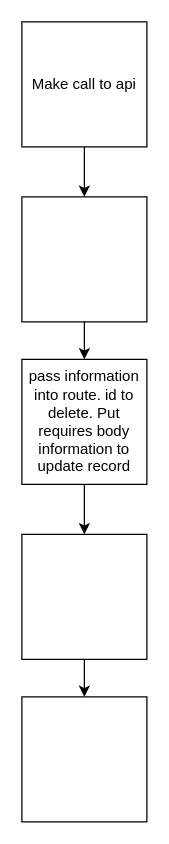
Image size: 169x844. Some labels were removed from this diagram. The centre of each missing label's shape, as x and y in pixels:
"execute delete or update" belongs at (x=84, y=596).
"Router determines which api route to use based on URL and selected method." belongs at (x=84, y=259).
